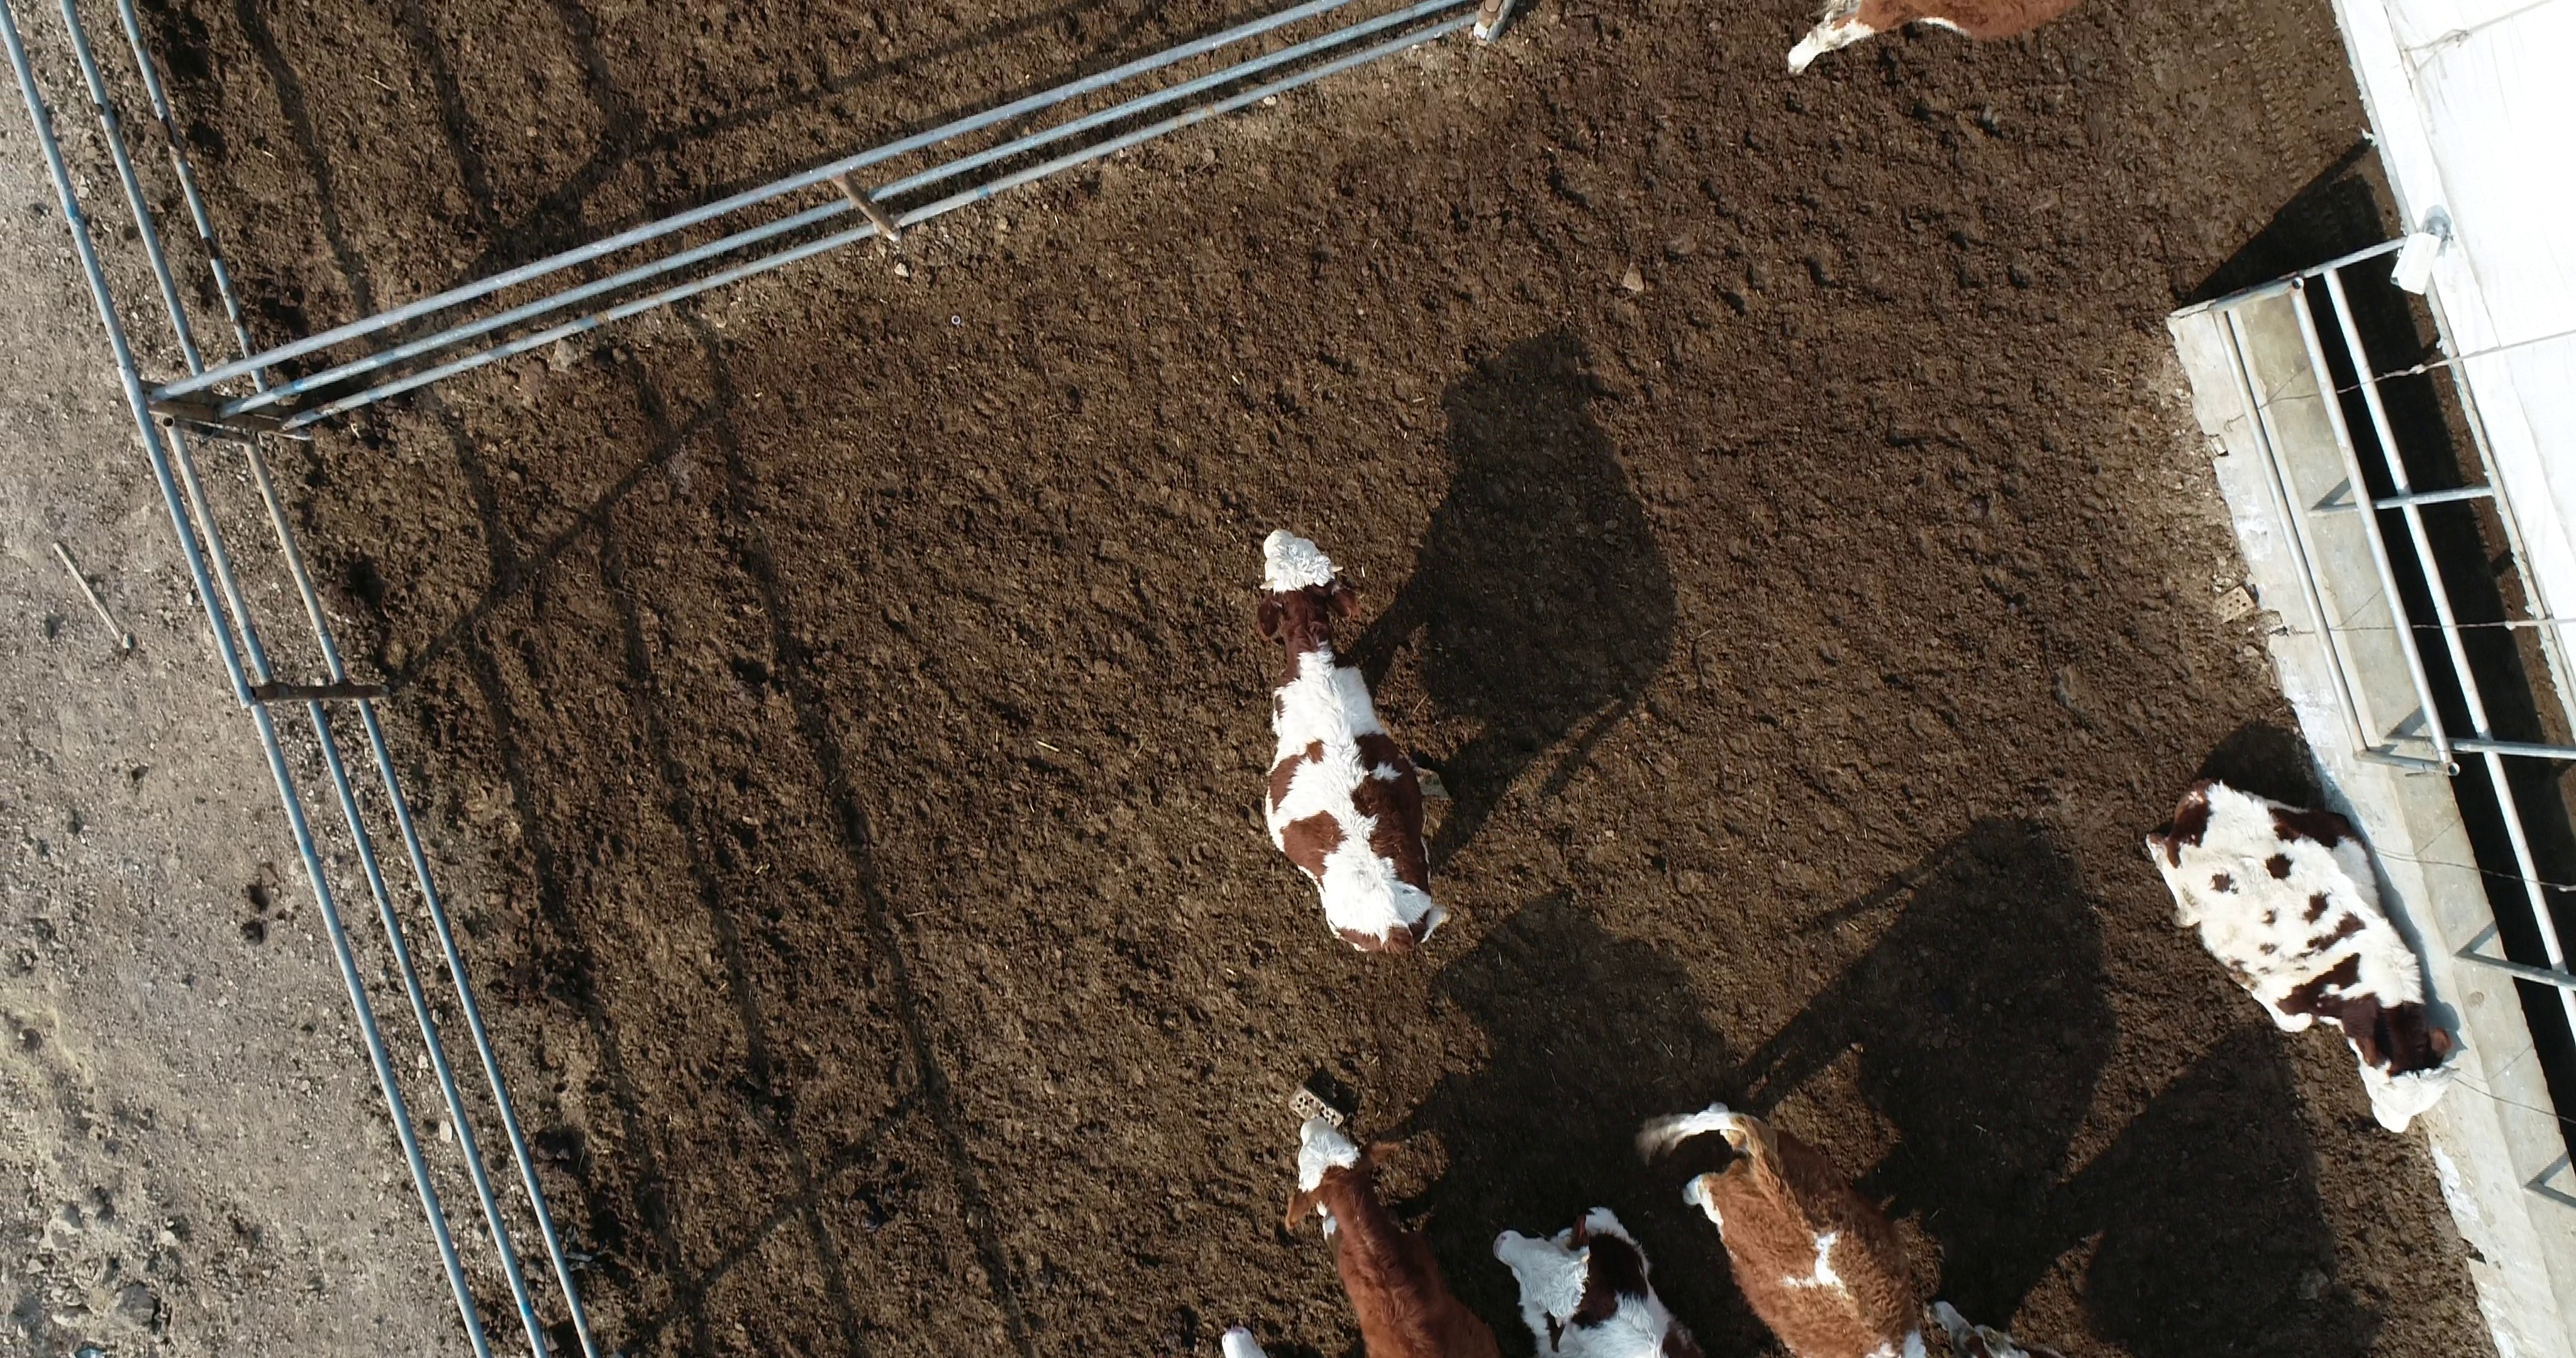cattle: (2136, 760, 2469, 1143), (1251, 525, 1467, 966)
